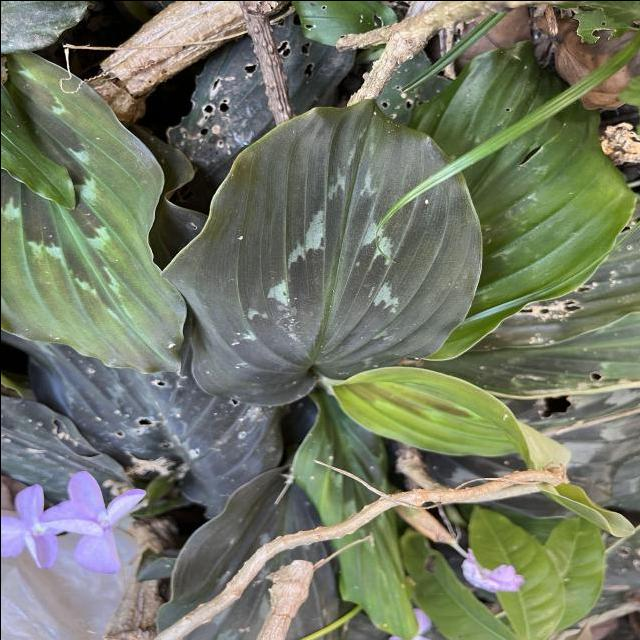Kaempferia galanga linn: (155, 94, 486, 408), (0, 49, 190, 376)
